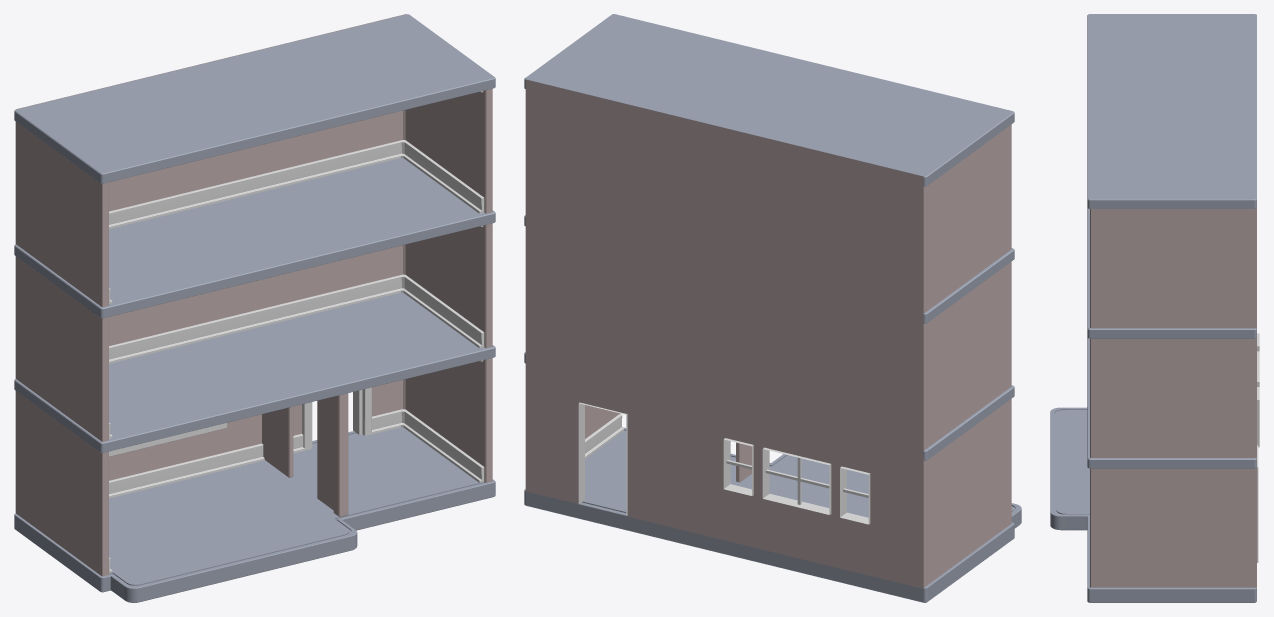
Rendered from sm_Maison_Salon.fbx.
3 renders of one model, left to right at view 1: azimuth 30°, elevation 25°; view 2: azimuth 150°, elevation 25°; view 3: azimuth 270°, elevation 25°, orthographic. The views are drawn at different scales.
Parts seen in each view (by area): view 1: Planchers, MursBase, PlinthesNFrames, MurInterior; view 2: MursBase, Planchers, PlinthesNFrames; view 3: MursBase, Planchers, PlinthesNFrames.
Boxes of the visible parts, bbox=[...] form: Planchers: bbox=[14, 14, 495, 602]; MursBase: bbox=[15, 14, 492, 576]; PlinthesNFrames: bbox=[109, 91, 484, 573]; MurInterior: bbox=[262, 393, 348, 516]; MursBase: bbox=[525, 79, 1011, 588]; Planchers: bbox=[524, 14, 1021, 602]; PlinthesNFrames: bbox=[578, 402, 870, 524]; MursBase: bbox=[1090, 14, 1256, 587]; Planchers: bbox=[1050, 14, 1256, 602]; PlinthesNFrames: bbox=[1257, 333, 1259, 562].
Size of the model in its own units: 8.3 by 8.4 by 3.95.
